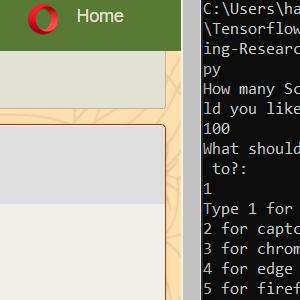opera: (28, 3, 59, 35)
